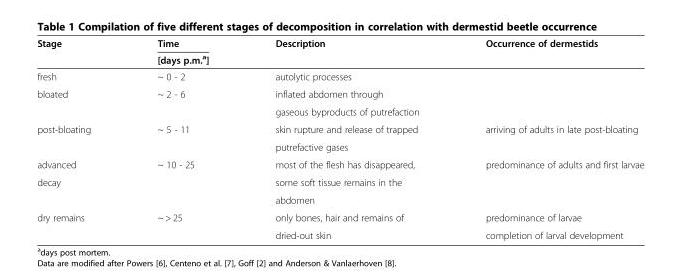table: (36, 37, 643, 240)
table column: (241, 37, 451, 240), (451, 37, 643, 240), (123, 37, 241, 240), (36, 37, 123, 240)
table column header: (36, 37, 643, 67)
table row: (36, 84, 643, 102), (36, 102, 643, 120), (36, 137, 643, 155), (36, 155, 643, 173), (36, 190, 643, 208), (36, 208, 643, 226), (36, 50, 643, 67), (36, 67, 643, 84), (36, 120, 643, 137), (36, 173, 643, 190), (36, 226, 643, 240), (36, 37, 643, 50)
table spanning cell: (241, 37, 451, 67), (451, 37, 643, 67), (123, 37, 241, 67), (36, 84, 123, 120), (36, 120, 123, 155), (36, 173, 123, 208), (36, 208, 123, 240), (36, 37, 123, 67)
